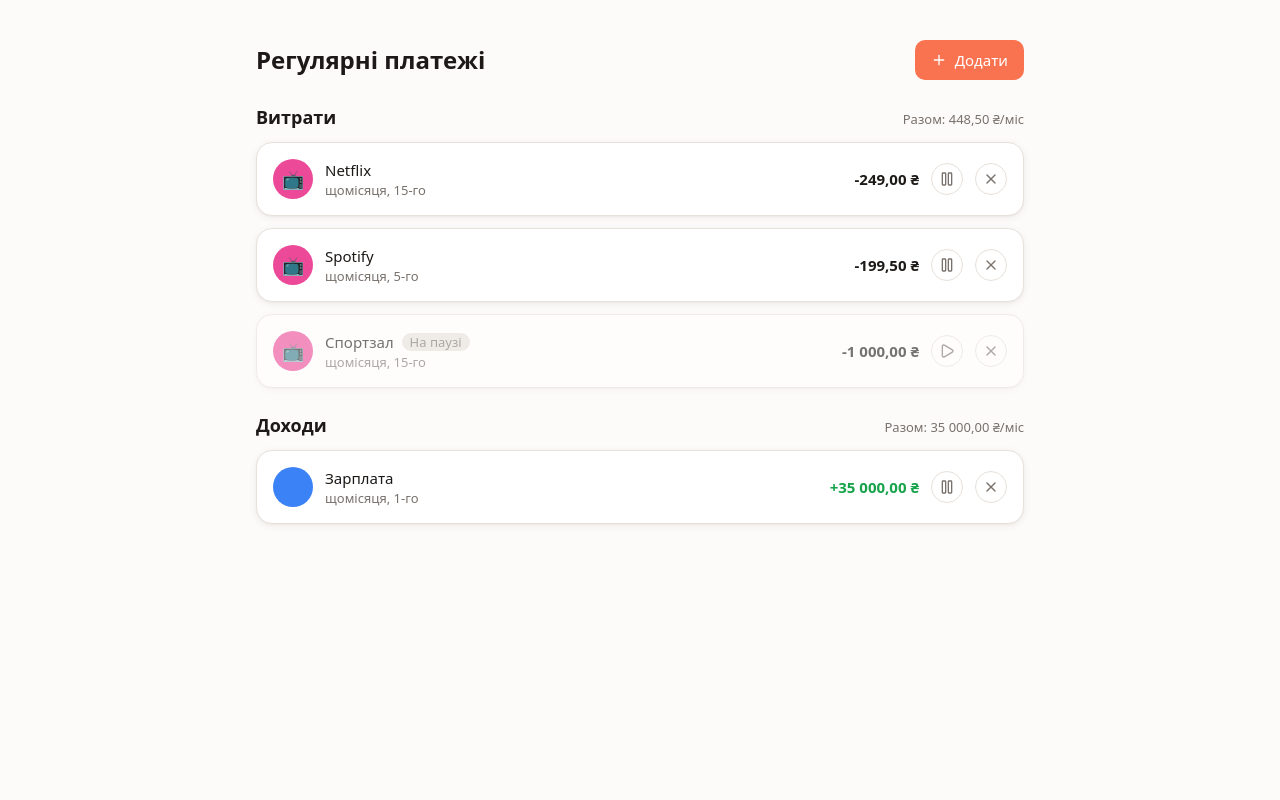
Test: RecurringPage › deletes only after confirming, and says why it failed
Click the button named "Видалити: Netflix": (991, 179) left=975, top=163, right=1007, bottom=195
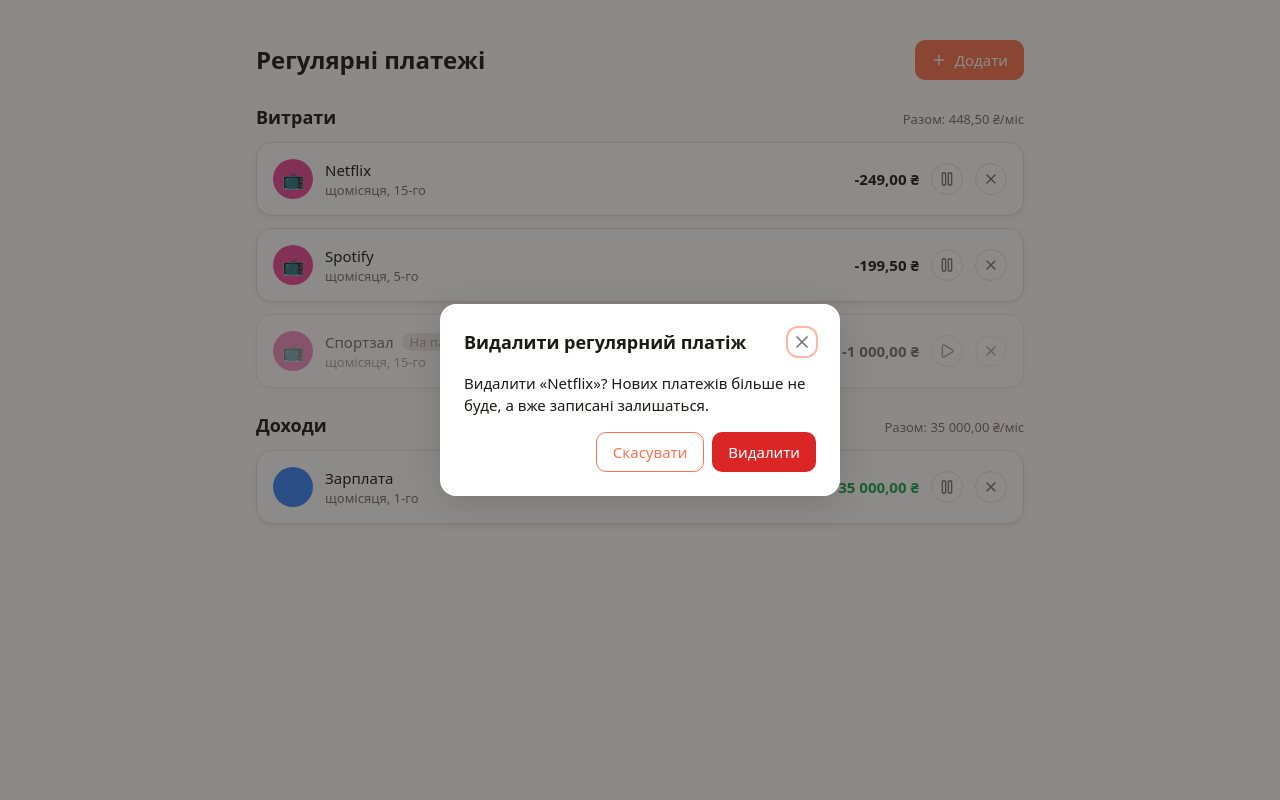
Now the dialog shows "вже записані залишаться", box left=464, top=373, right=806, bottom=415
Click the button "Видалити": (764, 452) left=712, top=432, right=816, bottom=472
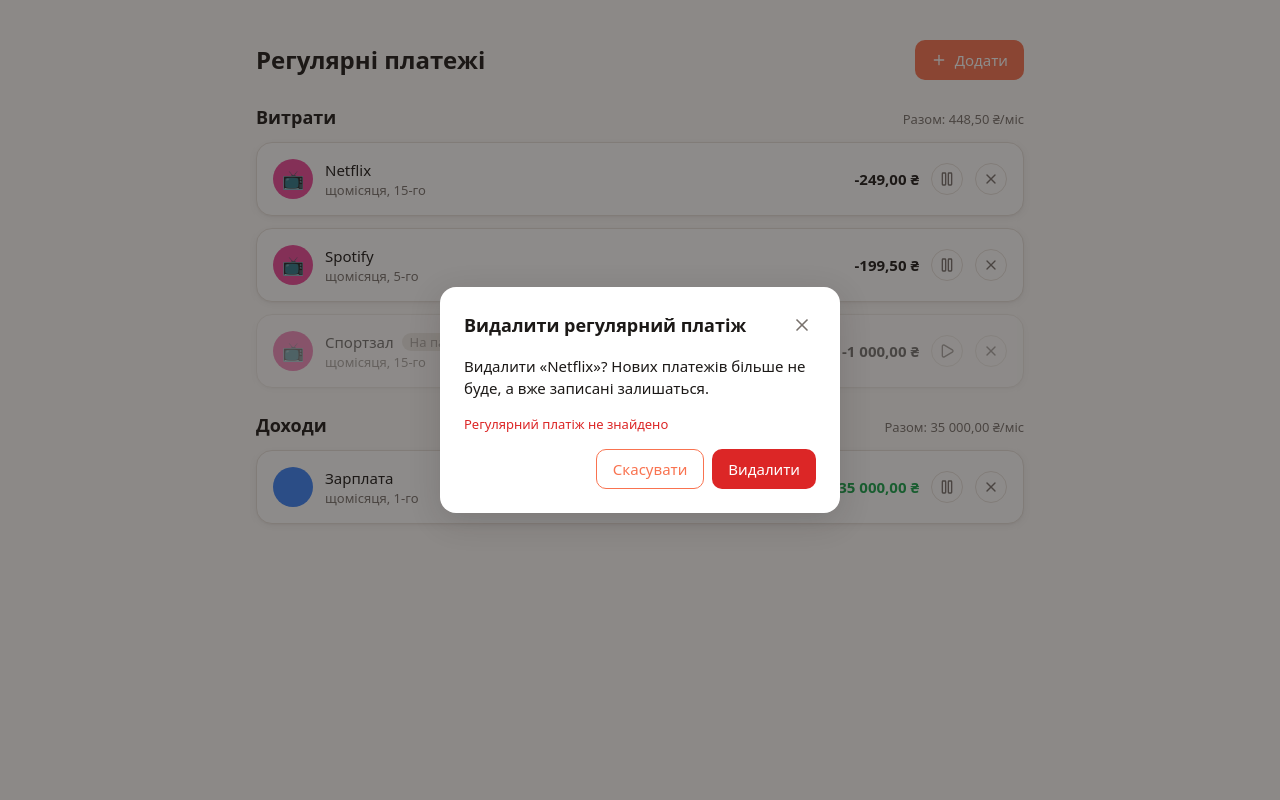
Now the message "Регулярний платіж не знайдено" is shown, box left=464, top=415, right=668, bottom=433
